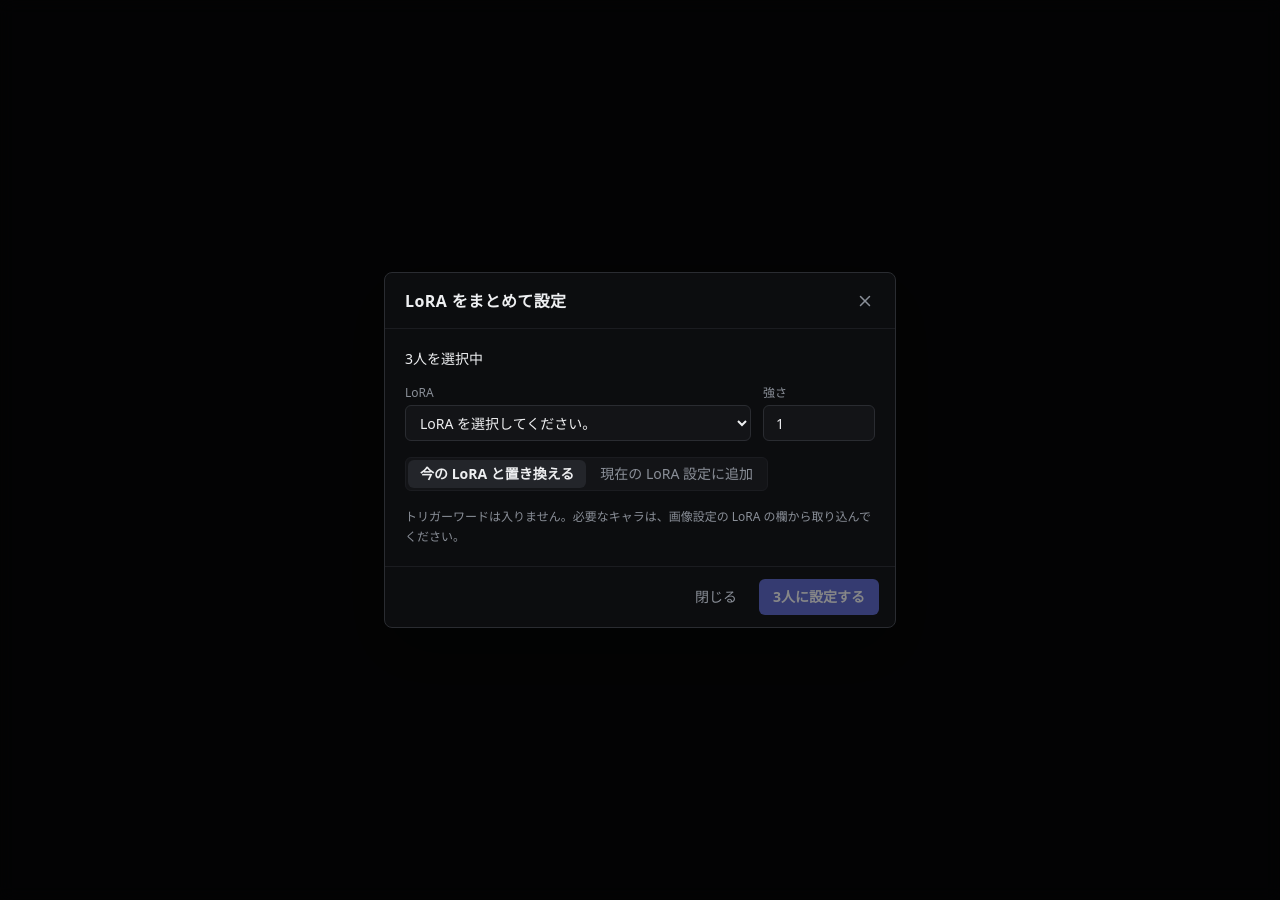
Test: LoRA をまとめて設定する小窓 › 中止すると次のキャラへ進まない
The width and height of the screenshot is (1280, 900).
Select "lora1" in the dropdown named "LoRA" at point(578, 423), box top-left (405, 405), bottom-right (751, 441)
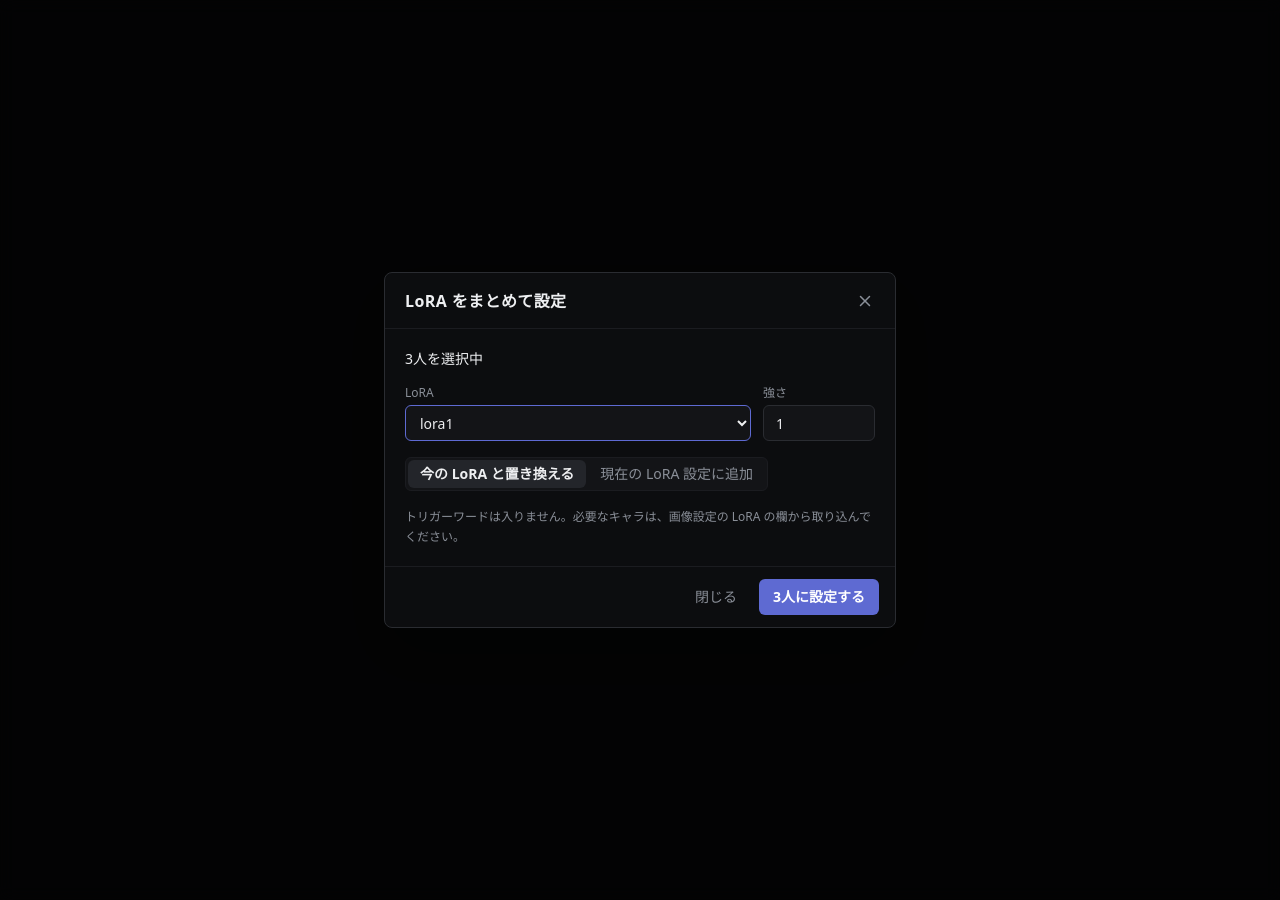
Click the button "3人に設定する" at point(819, 597), box top-left (759, 579), bottom-right (879, 615)
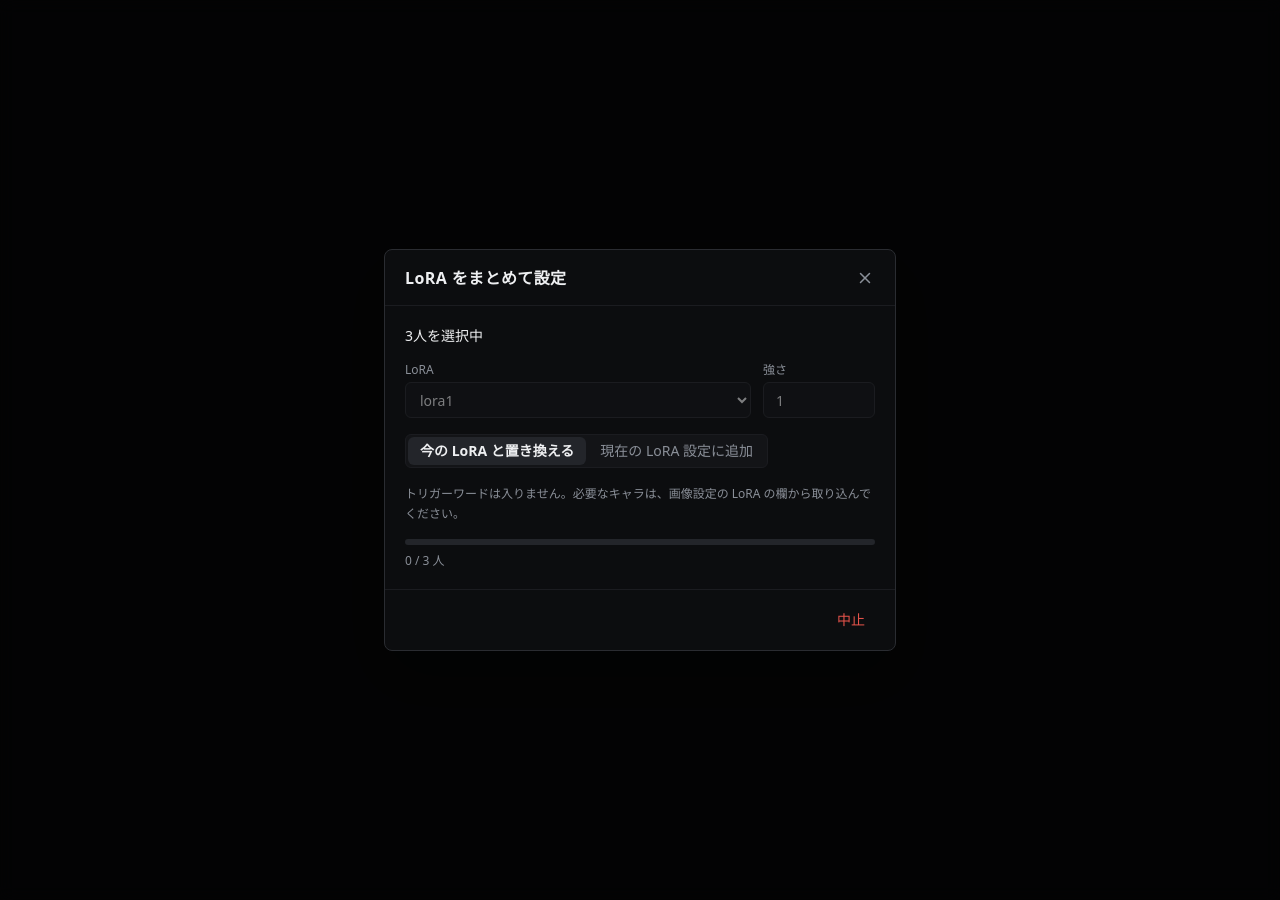
Click the button "中止" at point(851, 620), box top-left (823, 602), bottom-right (879, 638)
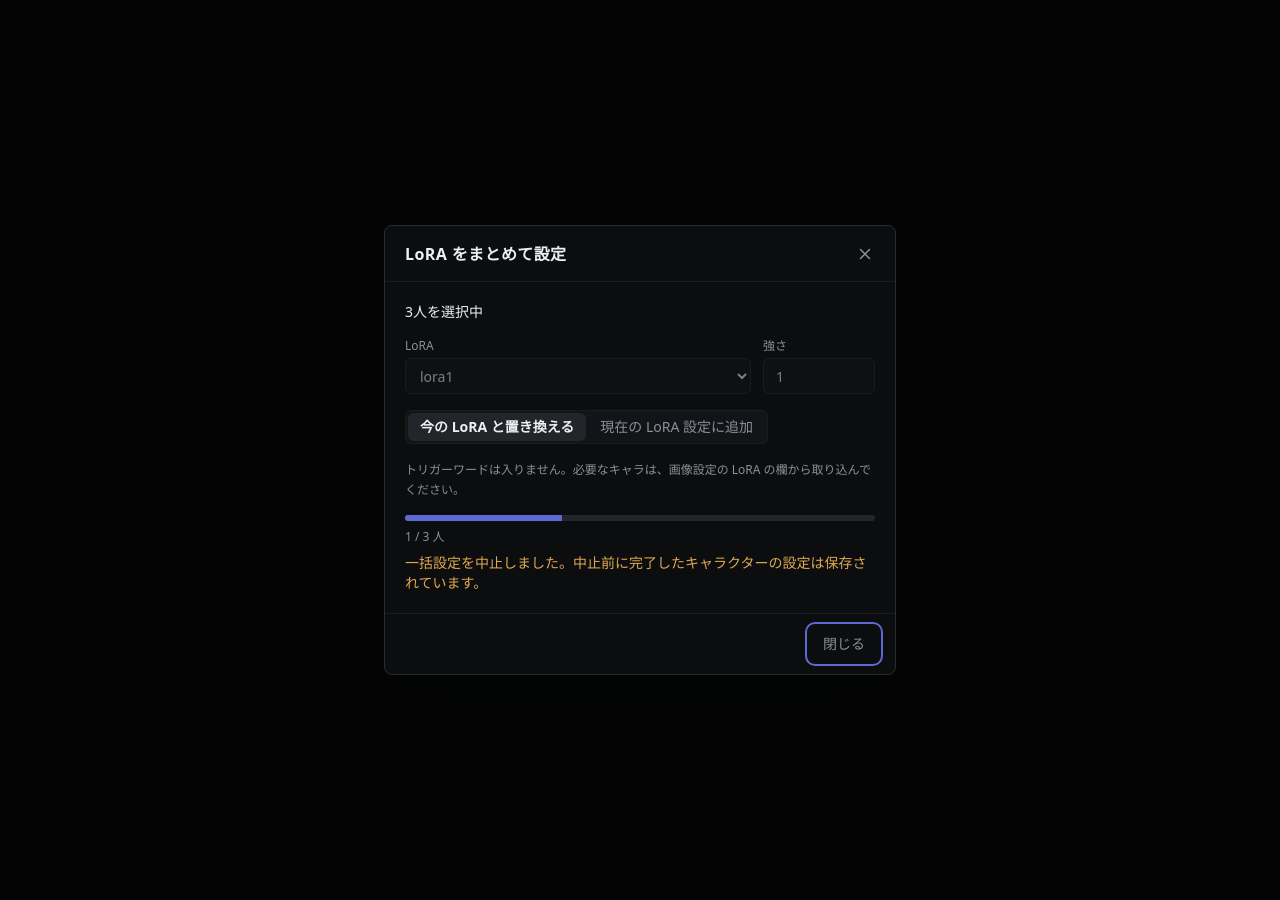
Expected: the text "一括設定を中止しました。中止前に完了したキャラクターの設定は保存されています。" is shown, top-left (405, 553), bottom-right (875, 593)
